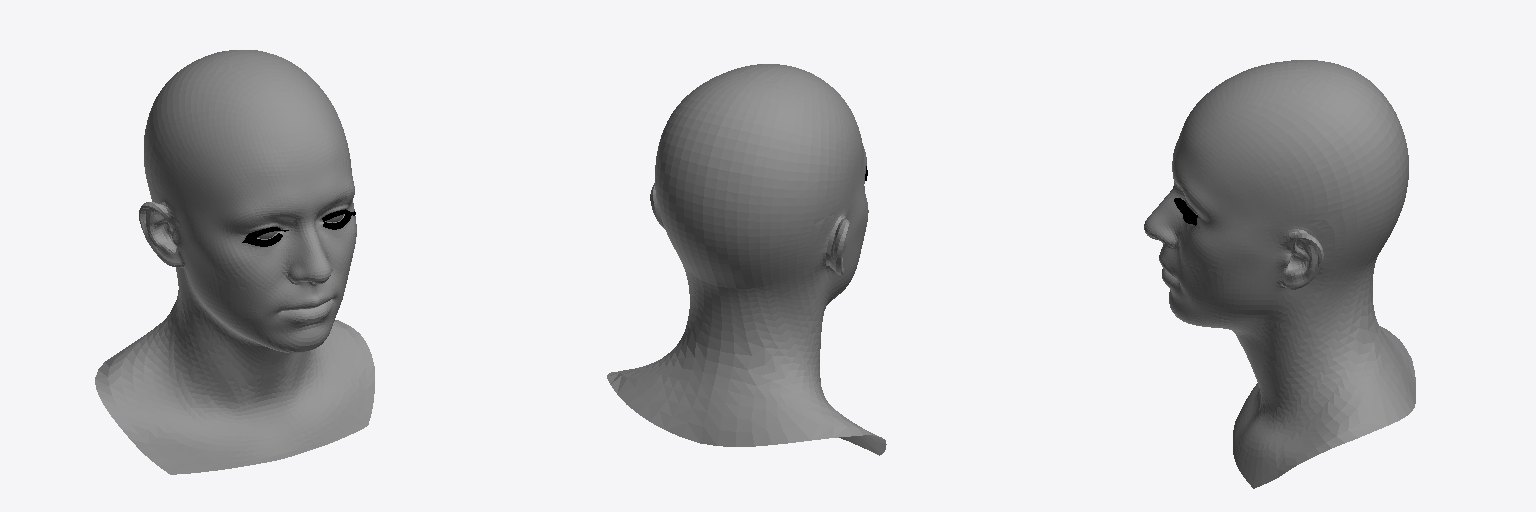
Rendered from identity071.obj.
3 views of the same model, side by side, from view 1: azimuth 30°, elevation 25°; view 2: azimuth 150°, elevation 25°; view 3: azimuth 270°, elevation 25° (orthographic).
Bounding box in the file's own units: 24.83 × 33.81 × 22.32.